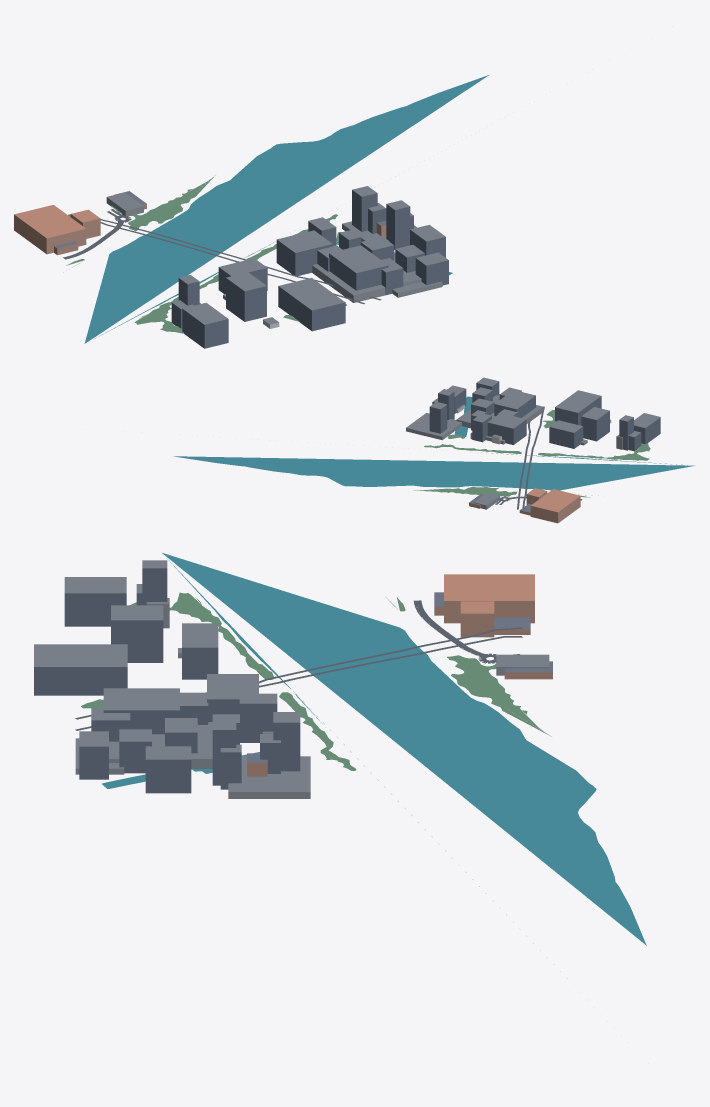
File: tile_6_4_lod1.glb
3 renders of one model, top to bottom at view 1: azimuth 30°, elevation 25°; view 2: azimuth 150°, elevation 25°; view 3: azimuth 270°, elevation 25°, orthographic. The views are drawn at different scales.
Parts seen in each view (by area): view 1: TileRoot; view 2: TileRoot; view 3: TileRoot.
Boxes of the visible parts, x1=… form: TileRoot: x1=14, y1=75, x2=488, y2=348; TileRoot: x1=173, y1=377, x2=694, y2=523; TileRoot: x1=34, y1=553, x2=646, y2=978.
Bounding box in the file's own units: 1141 × 57.65 × 573.
